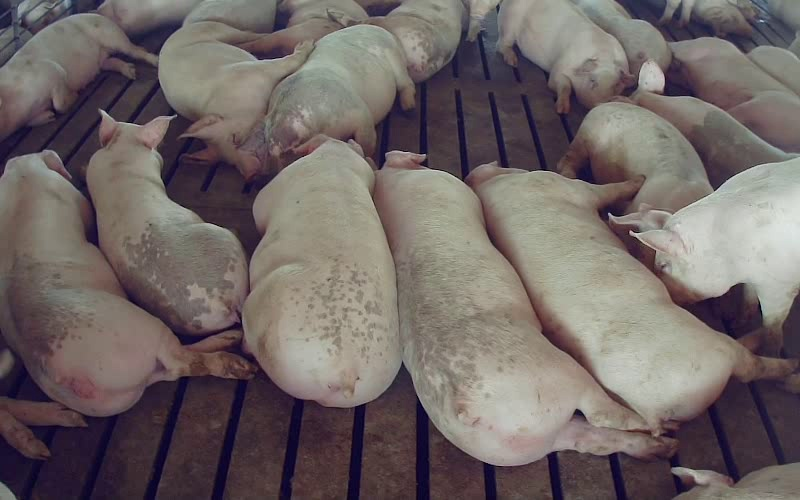pig: (374, 152, 675, 465), (467, 163, 796, 432), (242, 135, 400, 407), (610, 157, 799, 354), (86, 110, 247, 335), (159, 21, 312, 180), (613, 60, 799, 187), (264, 24, 414, 168), (0, 14, 157, 140), (557, 102, 712, 213), (497, 0, 633, 112), (667, 37, 799, 152), (328, 0, 466, 82), (238, 0, 367, 57), (573, 0, 671, 75)
